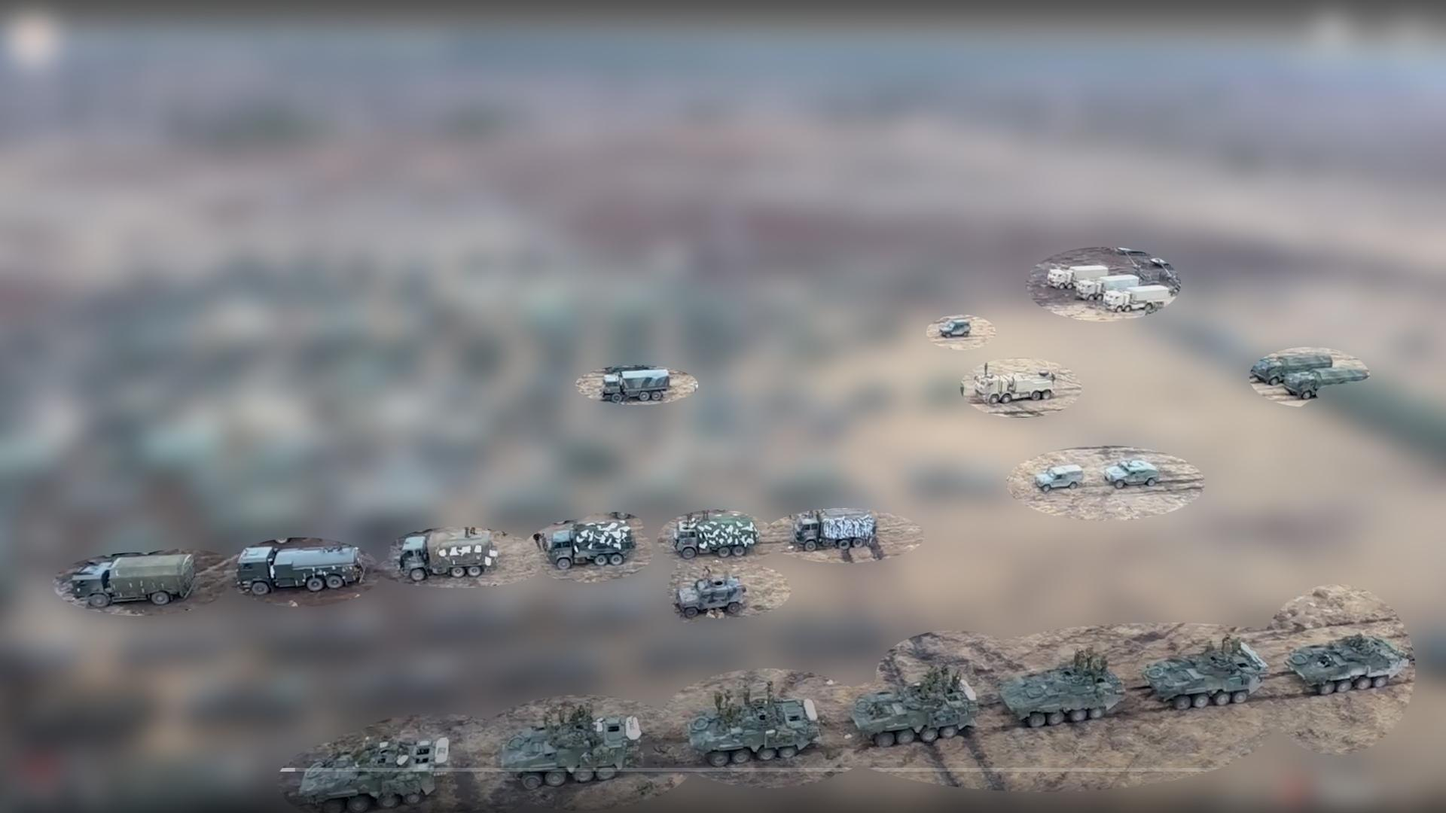armored_car: (299, 739, 450, 813), (499, 715, 639, 792), (848, 669, 979, 748), (686, 696, 824, 767), (999, 660, 1127, 729), (1143, 642, 1269, 711), (1284, 634, 1409, 697), (673, 577, 748, 620), (1103, 458, 1158, 488), (1036, 465, 1083, 491), (938, 317, 970, 338)
truck: (69, 553, 197, 609), (236, 546, 365, 596), (398, 530, 499, 583), (545, 521, 637, 571), (673, 512, 760, 560), (792, 508, 879, 553), (1284, 364, 1369, 404), (972, 371, 1056, 406), (599, 368, 671, 403), (1103, 286, 1173, 314)
